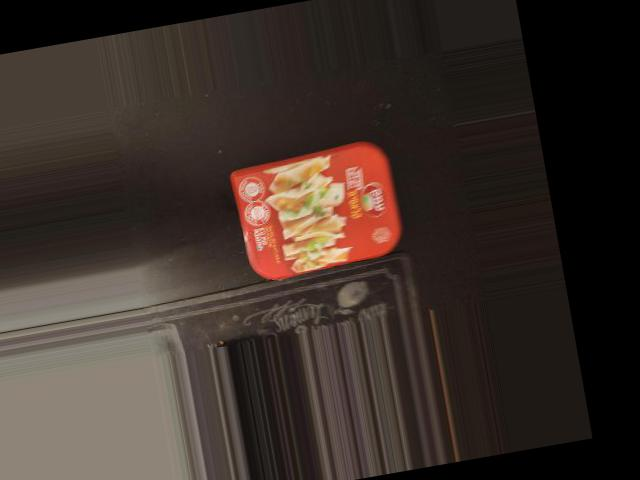cheese: (232, 134, 409, 283)
